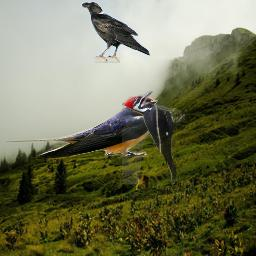Crow: (81, 1, 150, 63)
Swallow: (5, 94, 158, 160)
Woodpecker: (122, 91, 185, 184)
